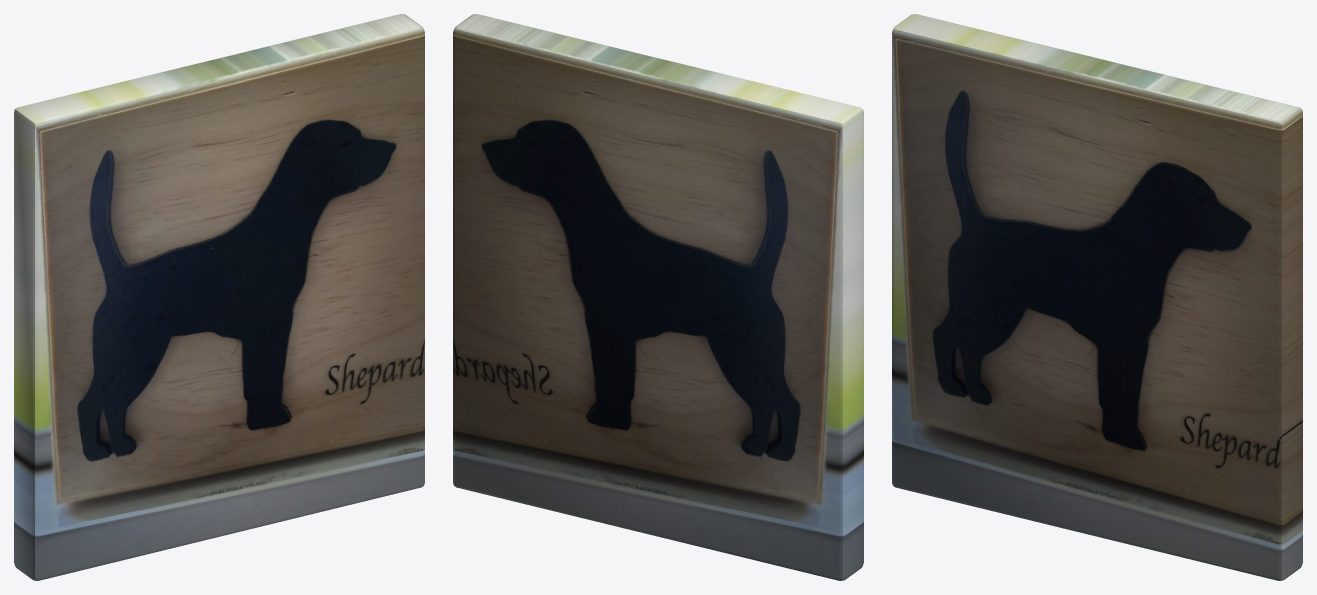
The model's file is pet-plaque.glb.
The picture shows the model from 3 angles, left to right: view 1: azimuth 30°, elevation 25°; view 2: azimuth 150°, elevation 25°; view 3: azimuth 330°, elevation 25°; orthographic projection.
Parts seen in each view (by area): view 1: Pet silhouette plaque; view 2: Pet silhouette plaque; view 3: Pet silhouette plaque.
Part boxes in pixels (box(x1,y1,x2,y2)): Pet silhouette plaque: box(14, 14, 424, 580); Pet silhouette plaque: box(453, 14, 863, 580); Pet silhouette plaque: box(892, 14, 1302, 580).
Size of the model in its own units: 0.25 by 0.2805 by 0.025.
1 material, 1 textured.
